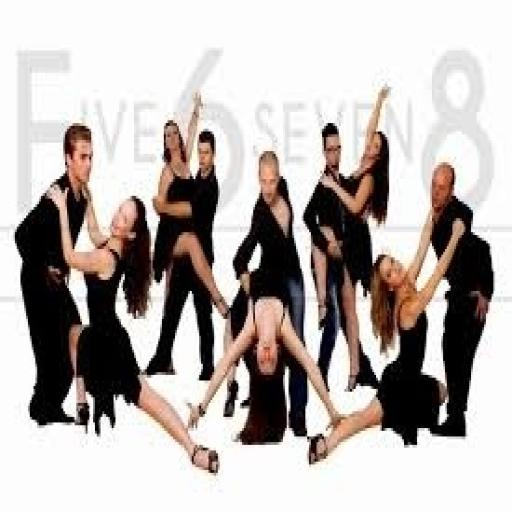dancing: (48, 188, 224, 478), (310, 76, 427, 465), (11, 120, 119, 431), (402, 160, 497, 442), (225, 138, 315, 430), (152, 97, 219, 395)
